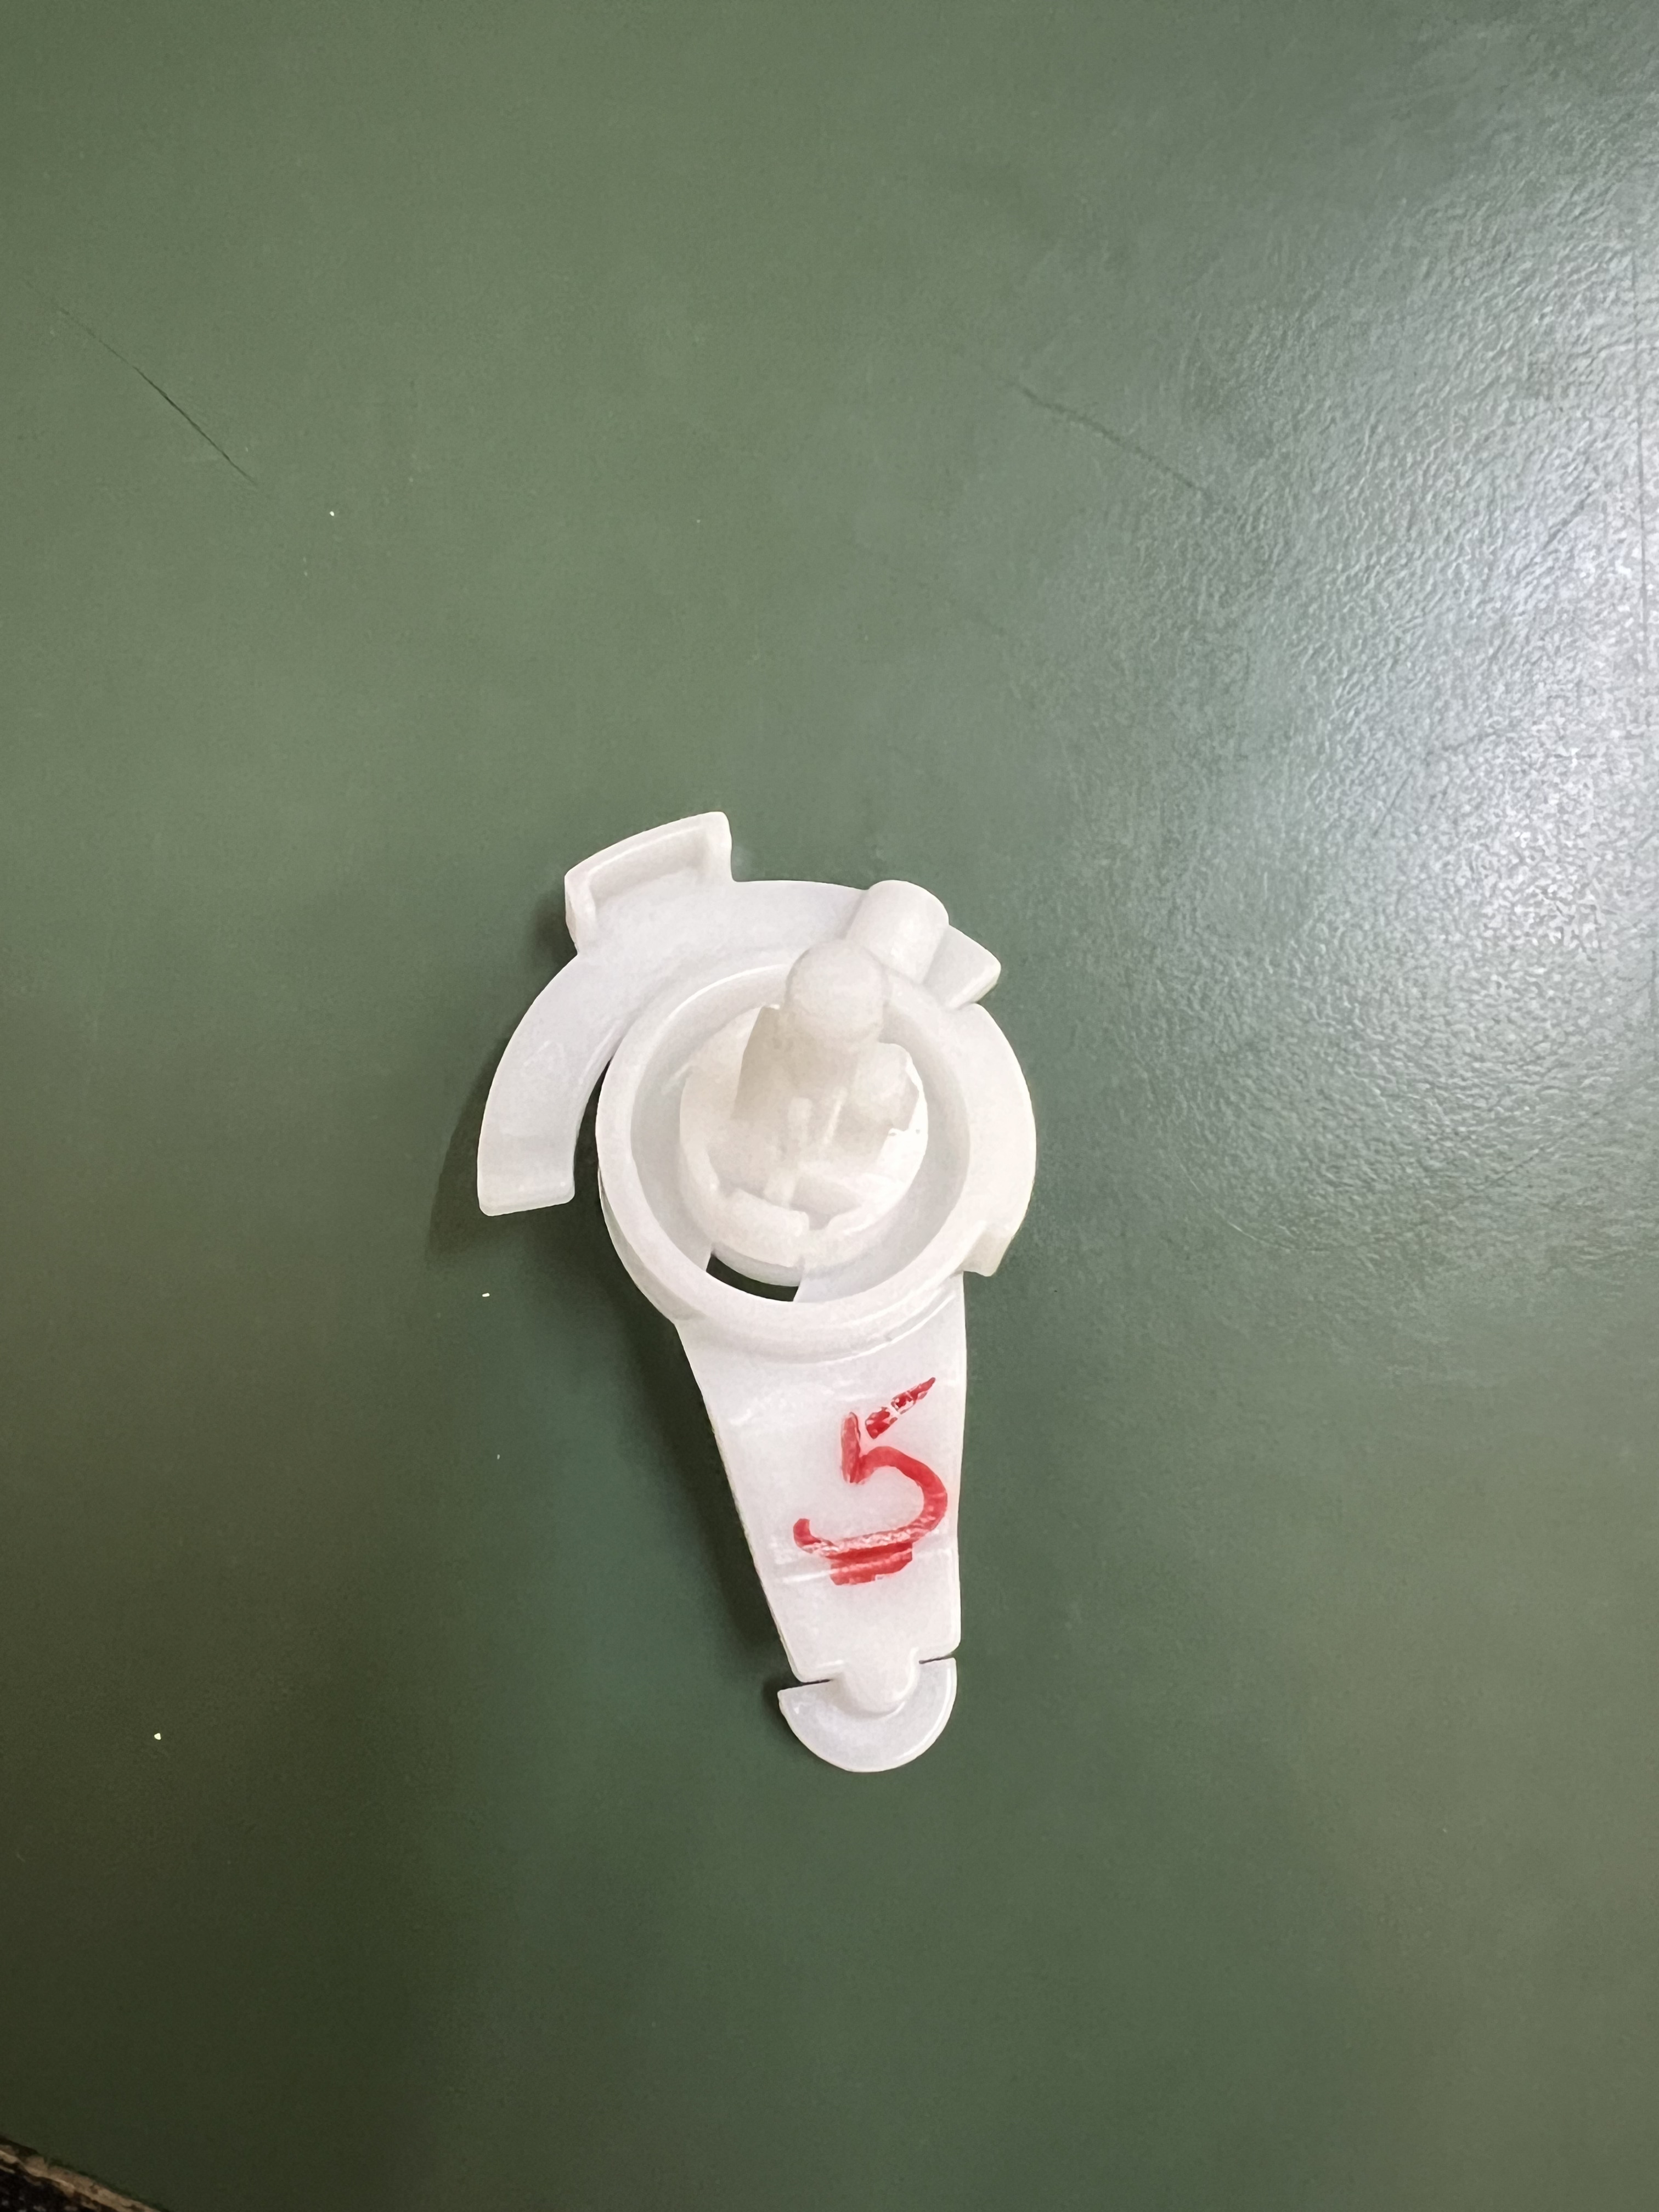drain_lever: (437, 791, 1117, 1768)
